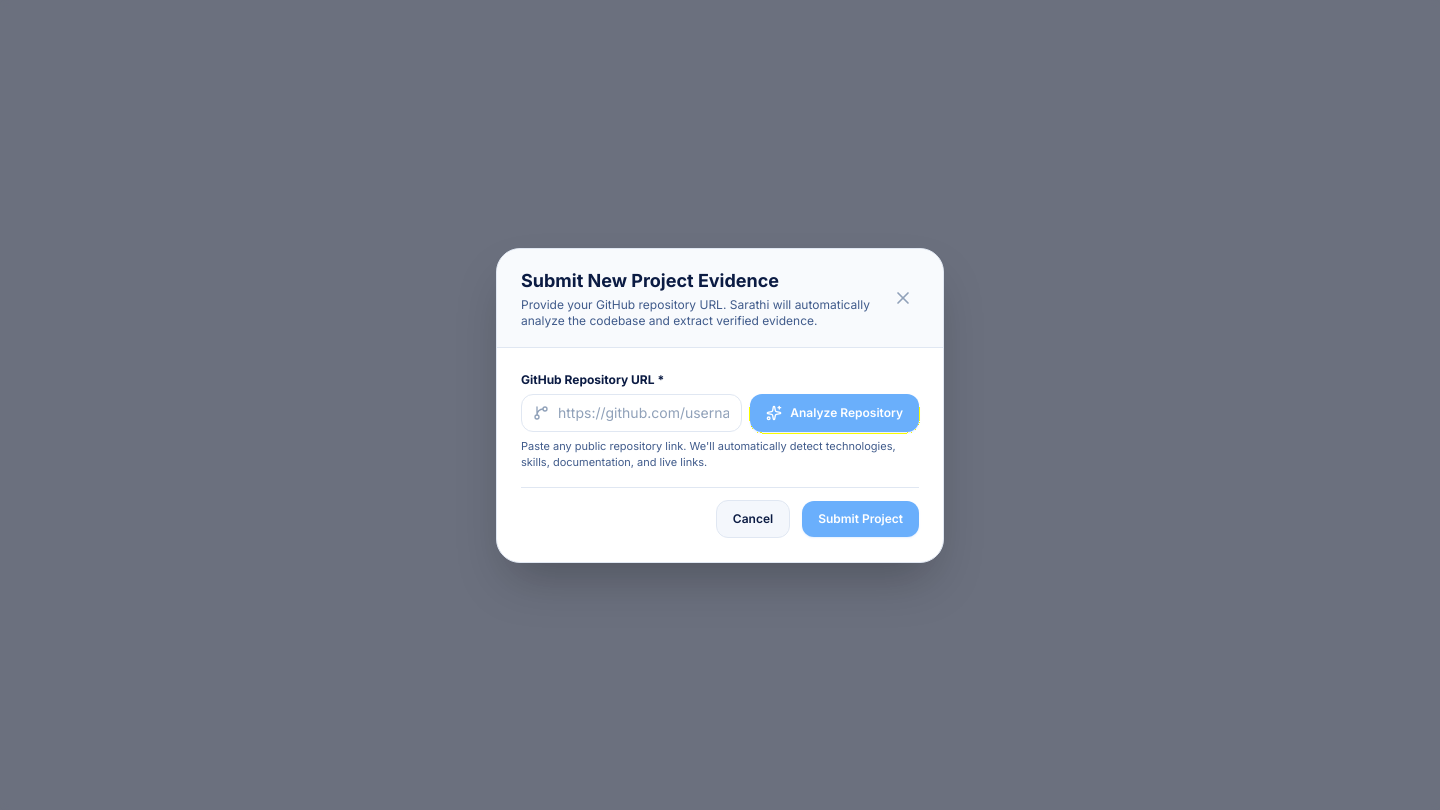
Scenario: Automated GitHub Project Information Extraction (Feature Enhancement) › validates invalid GitHub URLs and blocks submission
Step 1. Type "https://gitlab.com/invalid/repo" into the field with placeholder "https://github.com/username/project-repo" → {"x": 632, "y": 412}, box [521,394,742,432]
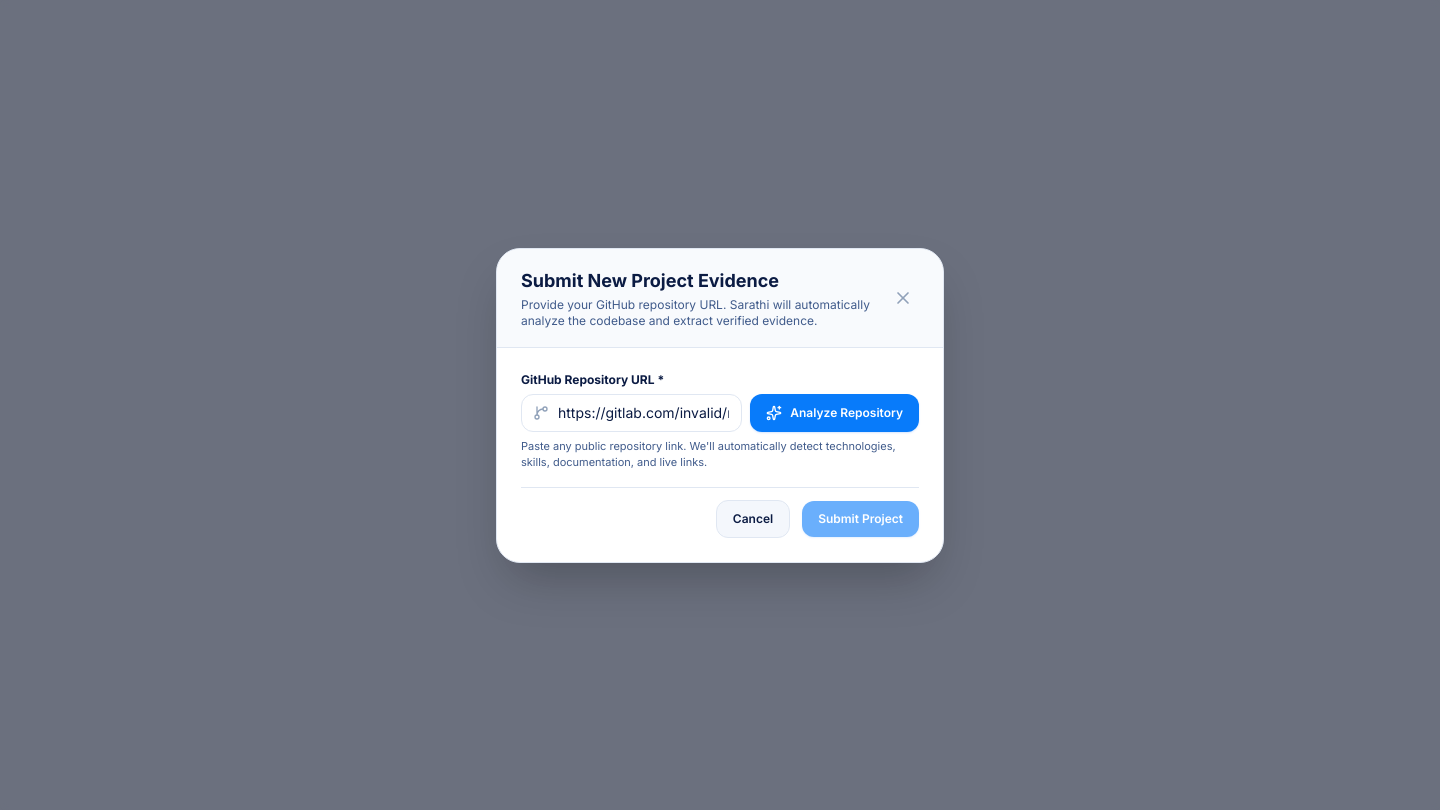
Step 2. Click the button "Analyze Repository" → {"x": 835, "y": 412}, box [750,394,919,432]
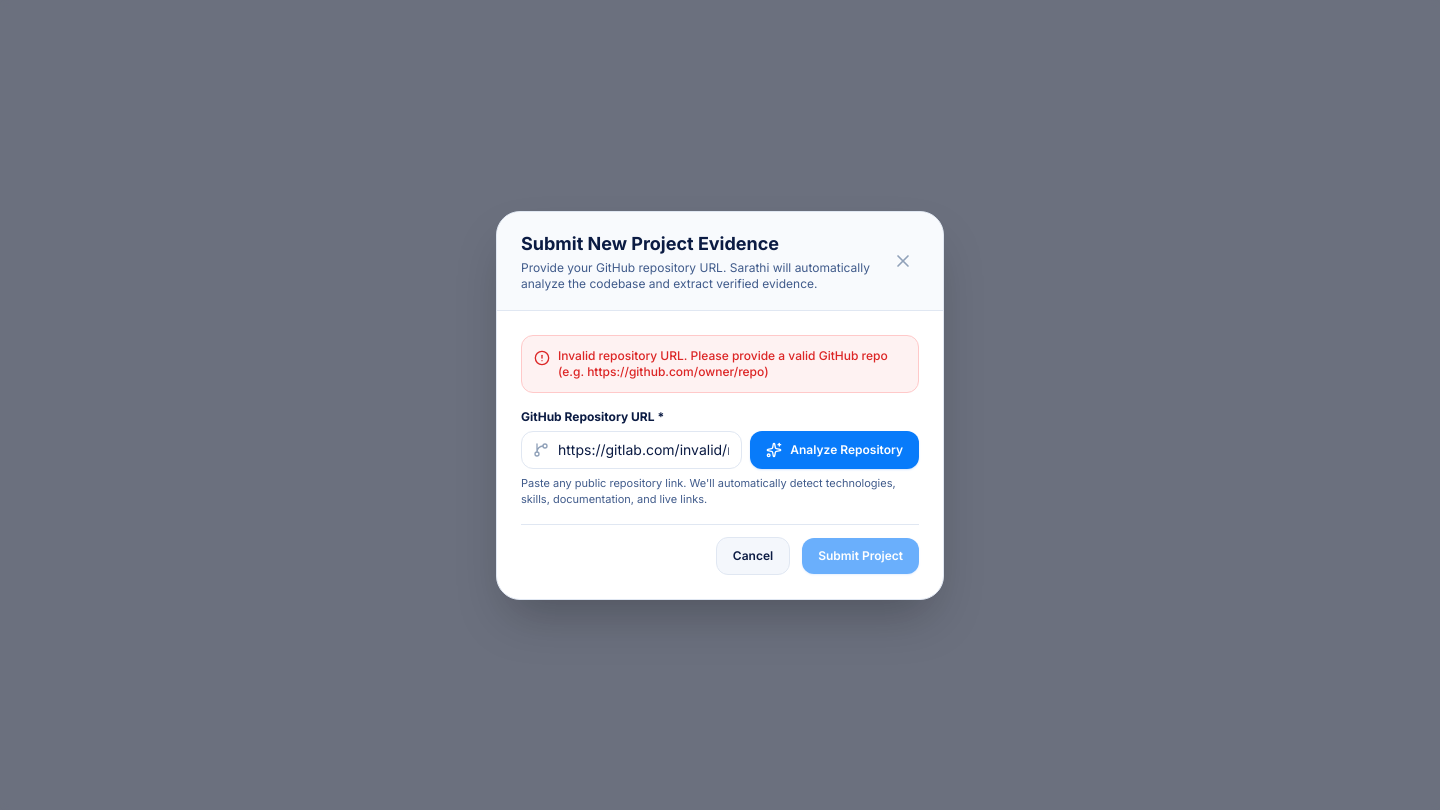
expect the message shows "Invalid repository URL": met, box [558,348,888,378]
